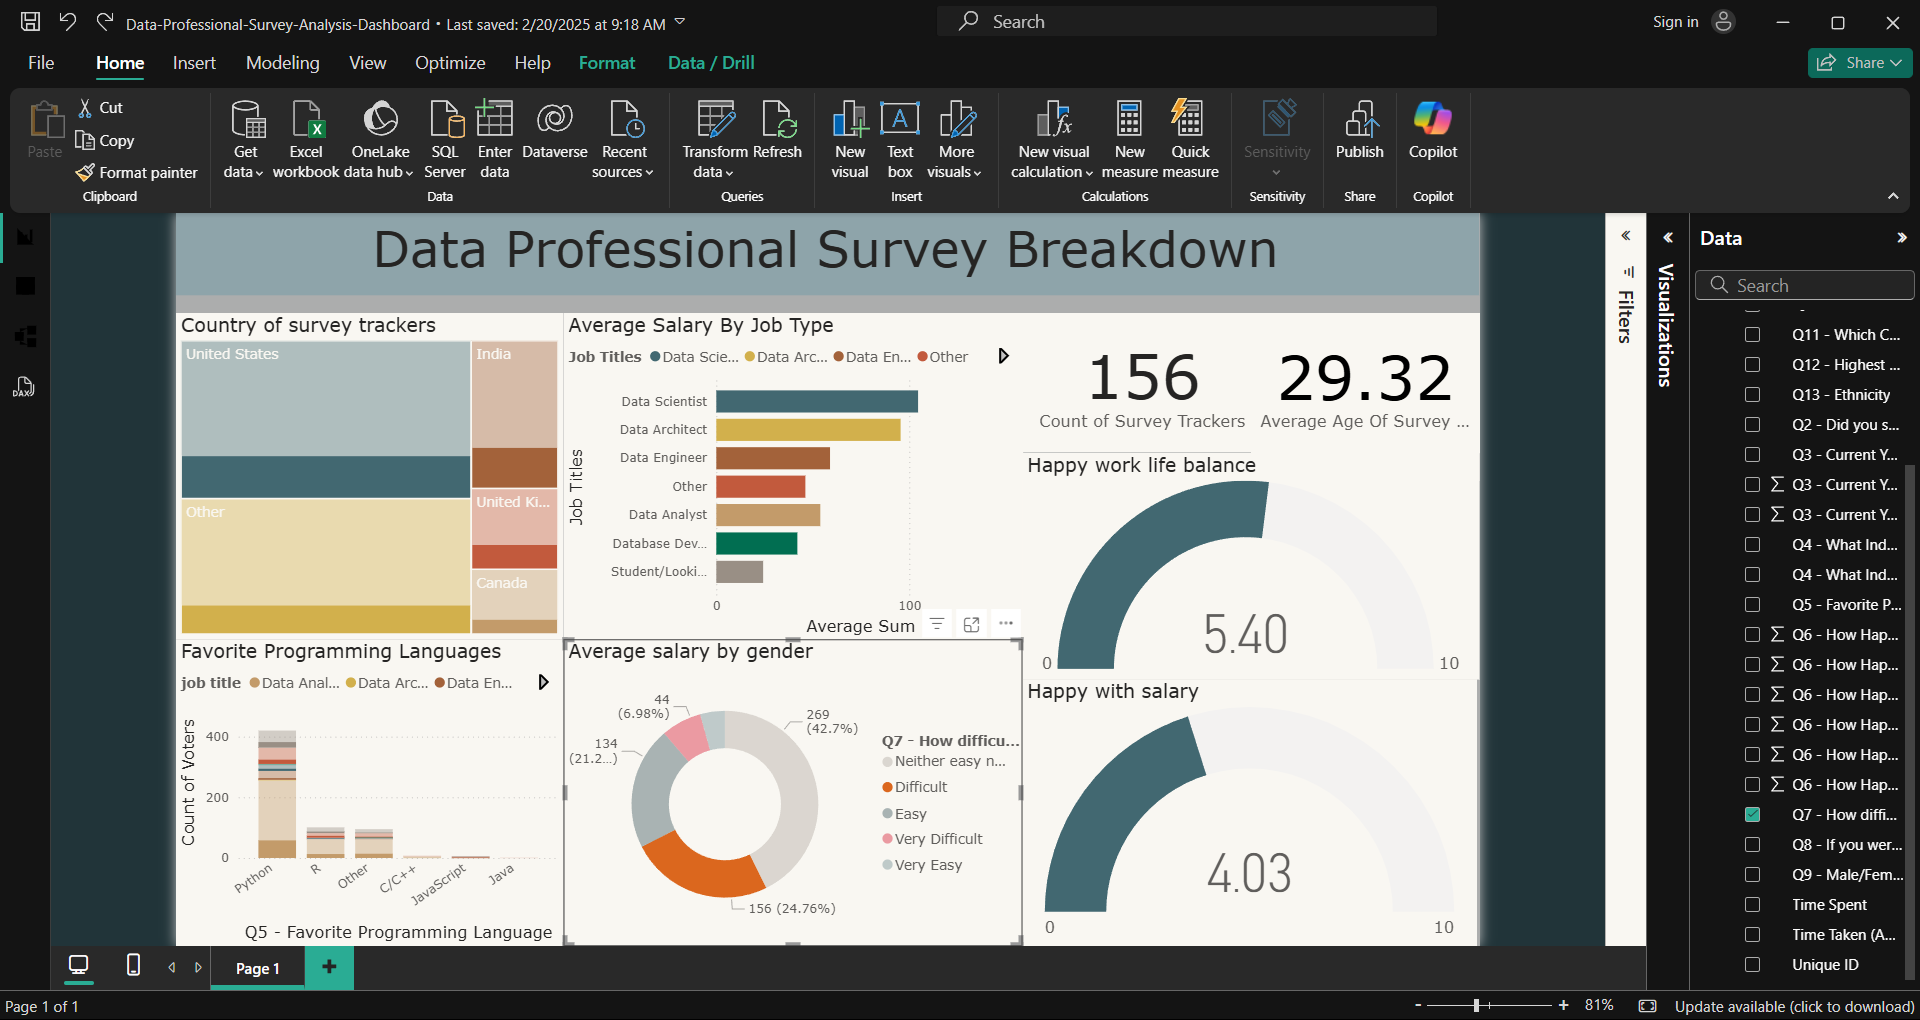

What the dashboard file says about the page in this screenshot:
{"tool":"powerbi","page":{"name":"Page 1","canvas":[1280,720],"ordinal":0},"visuals":[{"type":"textbox","box":[0,0,1279.4,80.5],"z":0},{"type":"card","fields":{"Values":["CountNonNull(Data Professional Survey.Unique ID)"]},"box":[831,98.3,236.4,136.8],"z":1000},{"type":"card","fields":{"Values":["Avg(Data Professional Survey.Q10 - Current Age)"]},"box":[1055.2,98.2,224.5,137.4],"z":2000},{"type":"barChart","title":"Average Salary By Job Type","fields":{"Category":["Data Professional Survey.Q1 - Which Title Best Fits your Current Role?.1"],"Y":["Avg(Data Professional Survey.Average Salary)"],"Series":["Data Professional Survey.Q1 - Which Title Best Fits your Current Role?.1"]},"box":[380.8,98.4,451.3,320.9],"z":3000},{"type":"columnChart","title":"Favorite Programming Languages","fields":{"Category":["Data Professional Survey.Q5 - Favorite Programming Language.1"],"Y":["CountNonNull(Data Professional Survey.Unique ID)"],"Series":["Data Professional Survey.Q1 - Which Title Best Fits your Current Role?.1"]},"box":[0,418.4,380.4,301.8],"z":4000},{"type":"treemap","title":"Country of survey trackers","fields":{"Group":["Data Professional Survey.Q11 - Which Country do you live in?.1"],"Values":["CountNonNull(Data Professional Survey.Q11 - Which Country do you live in?.1)"]},"box":[0,97.6,380.2,320.3],"z":5000},{"type":"gauge","title":"Happy work life balance","fields":{"Y":["Avg(Data Professional Survey.Q6 - How Happy are you in your Current Position with the following? (Work/Life Balance))"],"MinValue":["Min(Data Professional Survey.Q6 - How Happy are you in your Current Position with the following? (Work/Life Balance))1"],"MaxValue":["Max(Data Professional Survey.Q6 - How Happy are you in your Current Position with the following? (Work/Life Balance))2"]},"box":[830.7,235.6,449.1,222.1],"z":6000},{"type":"gauge","title":"Happy with salary","fields":{"Y":["Avg(Data Professional Survey.Q6 - How Happy are you in your Current Position with the following? (Salary))"],"MinValue":["Min(Data Professional Survey.Q6 - How Happy are you in your Current Position with the following? (Salary))1"],"MaxValue":["Max(Data Professional Survey.Q6 - How Happy are you in your Current Position with the following? (Salary))2"]},"box":[830.7,457.7,446.6,262.6],"z":7000},{"type":"donutChart","title":"Average salary by gender","fields":{"Category":["Data Professional Survey.Q7 - How difficult was it for you to break into Data?"],"Y":["CountNonNull(Data Professional Survey.Q7 - How difficult was it for you to break into Data?)"]},"box":[380.4,418.4,450.3,301.8],"z":8000}]}

Visuals, with their boxes on the page's 1280x720 design canvas (x1, y1, x2, y2). These are canvas units, not pixel positions in the 1920x1020 screenshot, which may show the page scaled, cropped or inside an application window:
textbox: rect(0, 0, 1279, 80)
card - CountNonNull(Data Professional Survey.Unique ID): rect(831, 98, 1067, 235)
card - Avg(Data Professional Survey.Q10 - Current Age): rect(1055, 98, 1280, 236)
"Average Salary By Job Type" barChart: rect(381, 98, 832, 419)
"Favorite Programming Languages" columnChart: rect(0, 418, 380, 720)
"Country of survey trackers" treemap: rect(0, 98, 380, 418)
"Happy work life balance" gauge: rect(831, 236, 1280, 458)
"Happy with salary" gauge: rect(831, 458, 1277, 720)
"Average salary by gender" donutChart: rect(380, 418, 831, 720)
